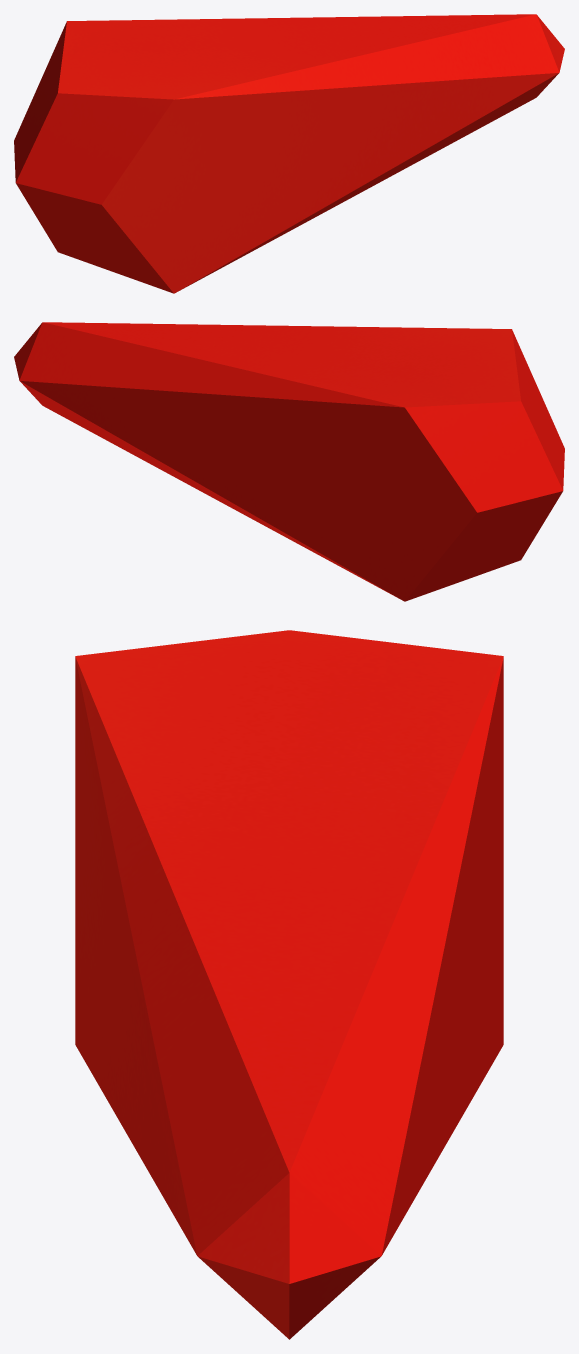
Rendered from fire.obj.
3 renders of one model, top to bottom at view 1: azimuth 30°, elevation 25°; view 2: azimuth 150°, elevation 25°; view 3: azimuth 270°, elevation 25°, orthographic. The views are drawn at different scales.
Parts seen in each view (by area): view 1: Circle; view 2: Circle; view 3: Circle.
Part boxes in pixels (box(x1,y1,x2,y2)): Circle: box(14, 14, 564, 293); Circle: box(14, 322, 564, 601); Circle: box(75, 630, 503, 1339).
Size of the model in its own units: 1.87 by 0.6328 by 0.6328.
1 material, 1 textured.
